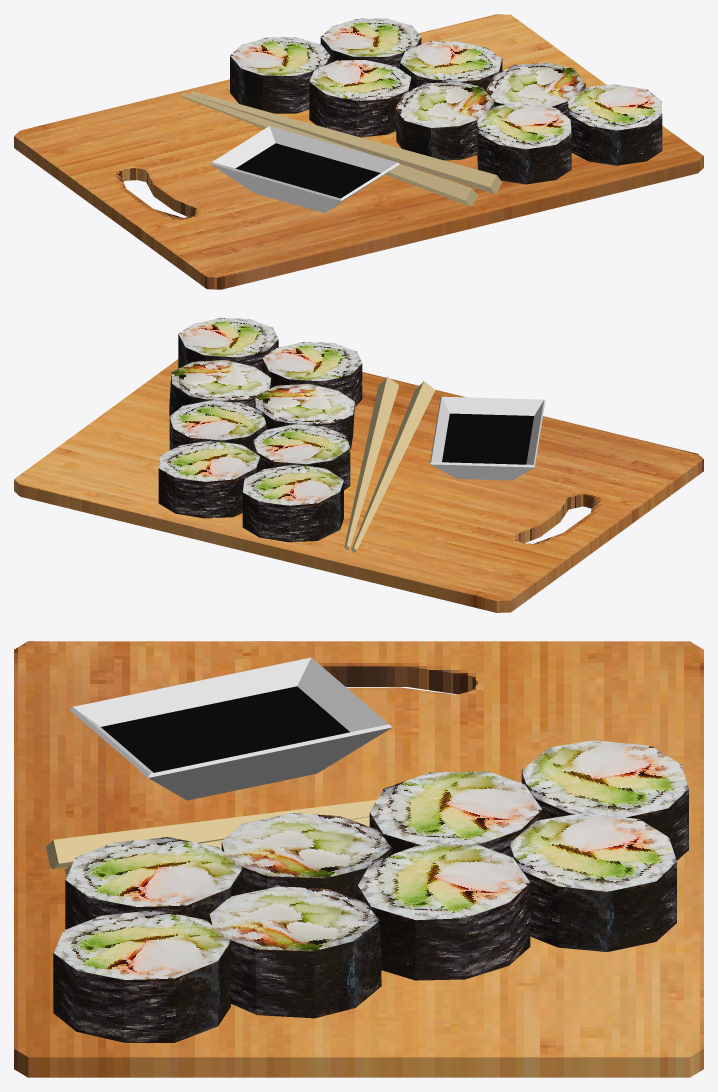
The model's file is futomaki_sushi.glb.
3 views of the same model, one above another, from view 1: azimuth 30°, elevation 25°; view 2: azimuth 150°, elevation 25°; view 3: azimuth 270°, elevation 25° (orthographic). The views are drawn at different scales.
Visible parts, largest first — view 1: board, Cylinder.001, Plane.001, Cylinder.010; view 2: board, Cylinder.001, Plane.001, Cylinder.010; view 3: board, Cylinder.001, Plane.001, Cylinder.010.
Part boxes in pixels (x1=…): board: x1=14, y1=14, x2=703, y2=289; Cylinder.001: x1=230, y1=18, x2=662, y2=184; Plane.001: x1=210, y1=126, x2=399, y2=212; Cylinder.010: x1=181, y1=91, x2=502, y2=206; board: x1=14, y1=359, x2=703, y2=612; Cylinder.001: x1=158, y1=318, x2=362, y2=542; Plane.001: x1=430, y1=396, x2=545, y2=480; Cylinder.010: x1=344, y1=376, x2=435, y2=552; board: x1=14, y1=641, x2=703, y2=1077; Cylinder.001: x1=53, y1=740, x2=688, y2=1042; Plane.001: x1=69, y1=657, x2=392, y2=800; Cylinder.010: x1=46, y1=782, x2=521, y2=876.
Size of the model in its own units: 11.18 by 1.11 by 7.83.
Materials: 5 (2 with a texture image).
